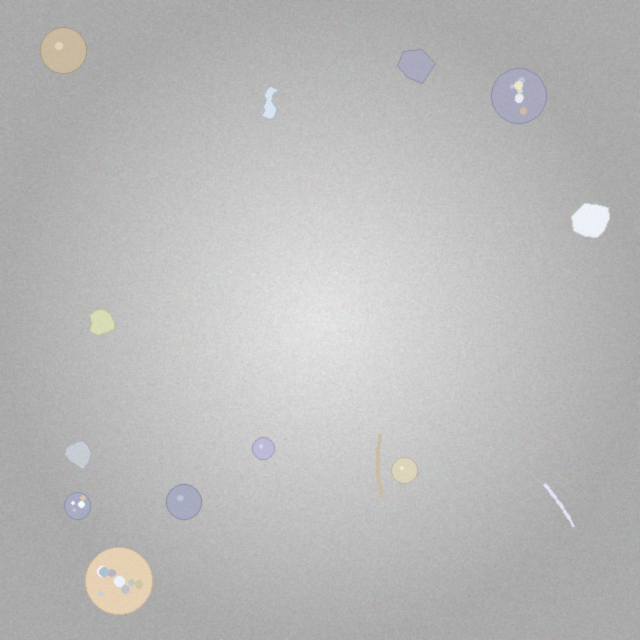fiber: (541, 481, 577, 530), (373, 429, 386, 502)
film: (261, 87, 279, 120)
foam: (85, 548, 152, 615), (492, 68, 547, 123), (64, 493, 91, 519)
fragment: (397, 49, 435, 83), (571, 204, 609, 238), (64, 440, 91, 470), (89, 309, 115, 335)
pellet: (41, 27, 87, 74), (166, 484, 202, 520), (392, 458, 417, 483), (252, 438, 274, 460)
